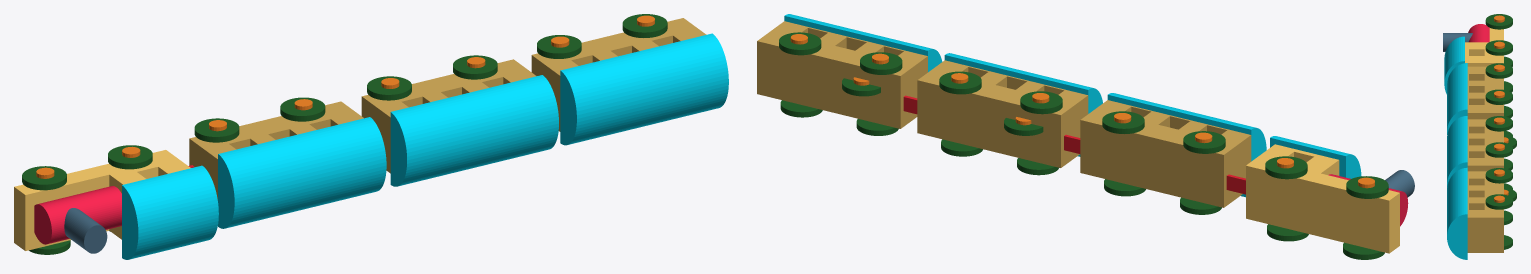
File: tinker.obj
3 views of the same model, side by side, from view 1: azimuth 30°, elevation 25°; view 2: azimuth 150°, elevation 25°; view 3: azimuth 270°, elevation 25° (orthographic). The views are drawn at different scales.
Visible parts, largest first — view 1: group_0_57087, group_0_13937493, group_0_1990949, group_0_16764518, group_0_16064331, group_0_16089887, group_0_4614786; view 2: group_0_13937493, group_0_1990949, group_0_16764518, group_0_57087, group_0_16089887, group_0_15277357, group_0_4614786; view 3: group_0_13937493, group_0_57087, group_0_1990949, group_0_16764518, group_0_16089887, group_0_16064331, group_0_4614786.
Part boxes in pixels (x1,y1,x2,y2): group_0_57087: [122, 33, 728, 259]; group_0_13937493: [189, 18, 706, 200]; group_0_1990949: [22, 14, 667, 254]; group_0_16764518: [14, 150, 190, 250]; group_0_16064331: [34, 186, 121, 244]; group_0_16089887: [36, 15, 654, 178]; group_0_4614786: [64, 208, 107, 253]; group_0_13937493: [757, 21, 1251, 207]; group_0_1990949: [779, 32, 1388, 259]; group_0_16764518: [1246, 144, 1399, 253]; group_0_57087: [784, 14, 1361, 197]; group_0_16089887: [790, 34, 1374, 188]; group_0_15277357: [903, 95, 1245, 194]; group_0_4614786: [1385, 170, 1414, 197]; group_0_13937493: [1467, 66, 1503, 252]; group_0_57087: [1444, 36, 1467, 259]; group_0_1990949: [1485, 14, 1516, 249]; group_0_16764518: [1465, 28, 1503, 66]; group_0_16089887: [1494, 15, 1508, 202]; group_0_16064331: [1468, 24, 1489, 42]; group_0_4614786: [1443, 33, 1472, 51].
Size of the model in its own units: 374 by 45 by 57.
